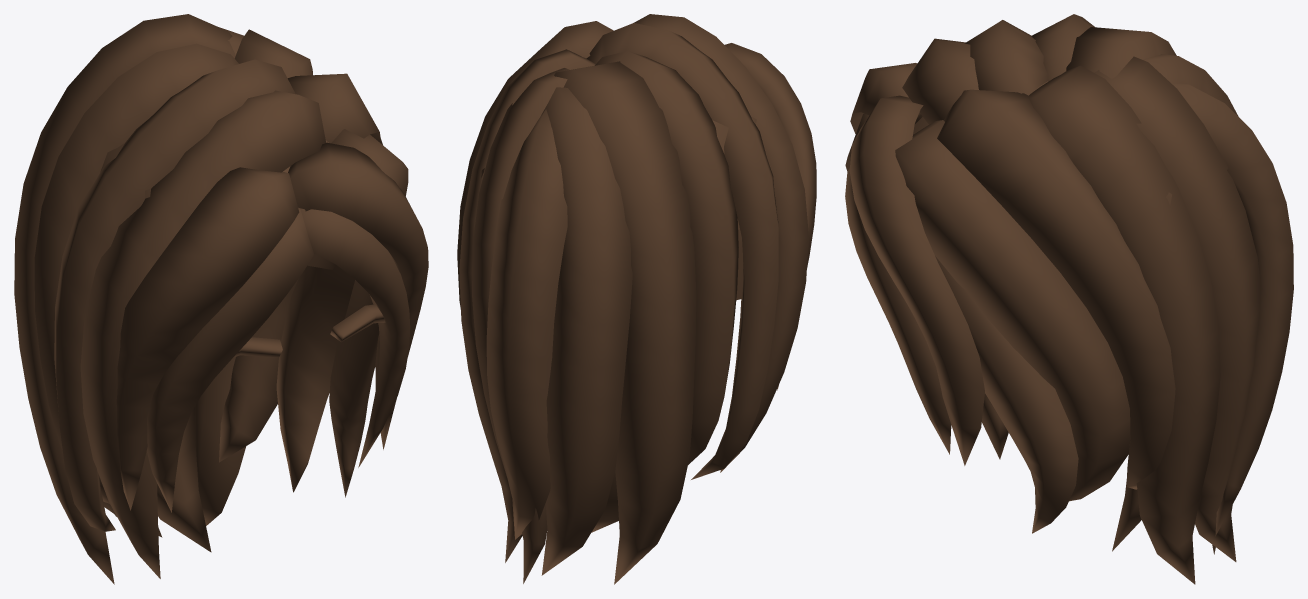
File: umw_witch.glb
3 renders of one model, left to right at view 1: azimuth 30°, elevation 25°; view 2: azimuth 150°, elevation 25°; view 3: azimuth 270°, elevation 25°, orthographic. The views are drawn at different scales.
Parts seen in each view (by area): view 1: Witch; view 2: Witch; view 3: Witch.
Part boxes in pixels (box(x1,y1,x2,y2)): Witch: box(14, 14, 428, 584); Witch: box(457, 14, 816, 584); Witch: box(845, 14, 1293, 584).
Size of the model in its own units: 0.2267 by 0.3811 by 0.2879.
